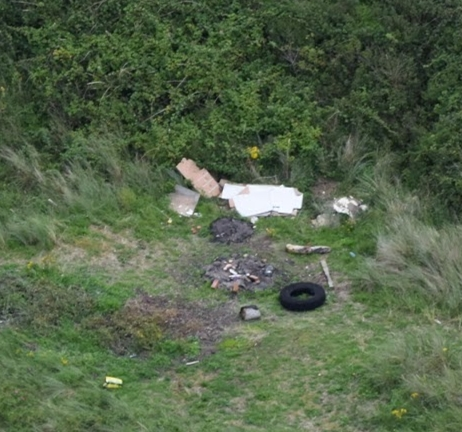scattered_barrel: (148, 154, 381, 326)
white_in_green: (78, 354, 145, 413)
